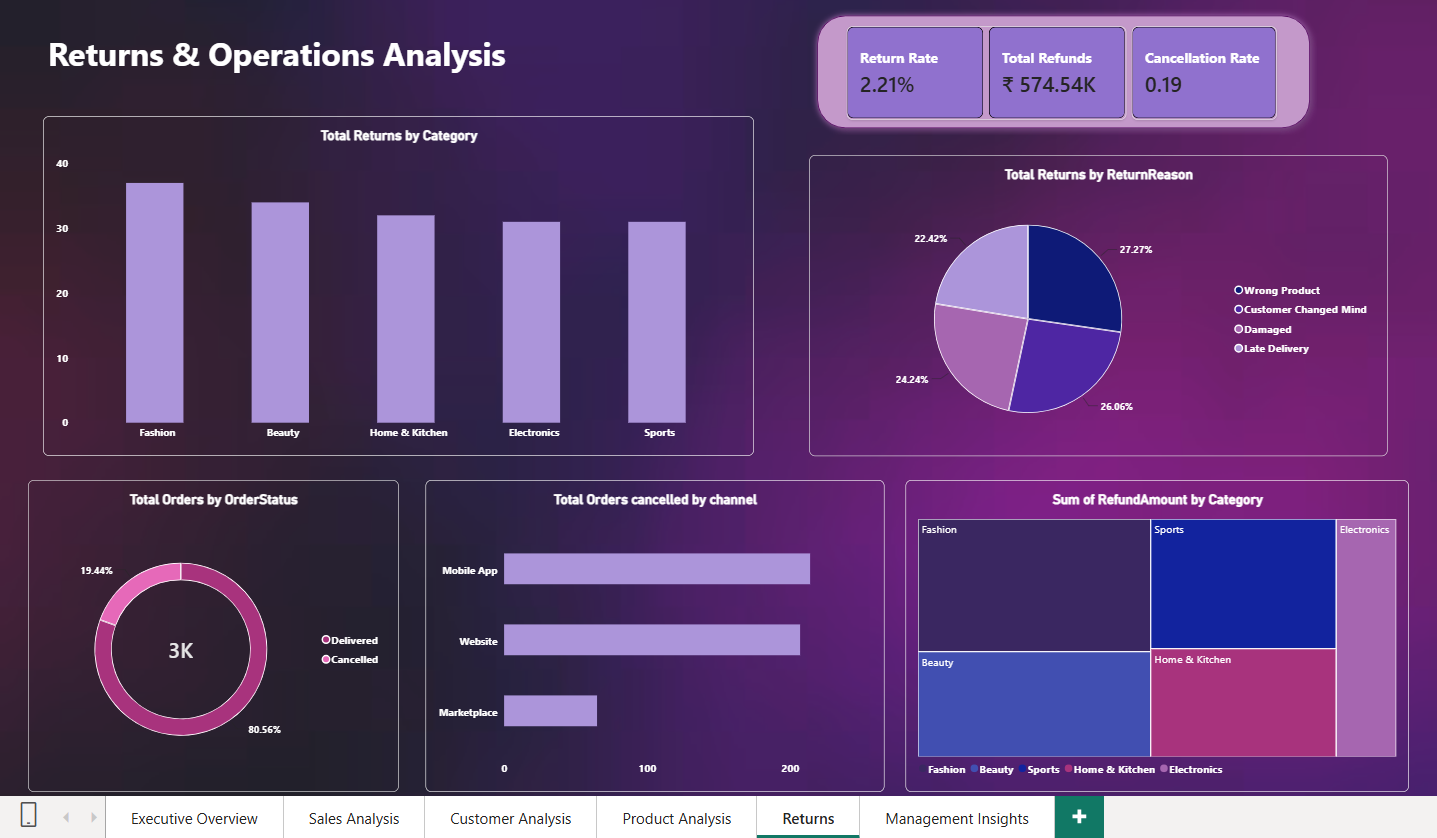

The dashboard page shown, as its layout file describes it:
{"tool":"powerbi","page":{"name":"Returns","canvas":[1920,1080],"ordinal":4},"visuals":[{"type":"shape","box":[1084,10.9,675,168.3],"z":0,"group":"g1"},{"type":"pieChart","fields":{"Category":["Returns.ReturnReason"],"Y":["Customers.Total Returns"]},"box":[1082.2,206.3,770.9,401.7],"z":0},{"type":"cardVisual","fields":{"Data":["Customers.Return Rate","Customers.Total Refunds"]},"box":[1132.8,34.6,372.8,124.9],"z":1000,"group":"g1"},{"type":"columnChart","fields":{"Category":["Products.Category"],"Y":["Customers.Total Returns"]},"box":[59.7,155.6,948.3,452.4],"z":1000},{"type":"cardVisual","fields":{"Data":["Customers.Cancellation Rate"]},"box":[1512.8,34.6,193.6,124.9],"z":2000,"group":"g1"},{"type":"treemap","fields":{"Group":["Products.Category"],"Values":["Sum(Returns.RefundAmount)"]},"box":[1210.7,640.6,671.4,416.2],"z":2000},{"type":"clusteredBarChart","title":"Total Orders cancelled by channel","fields":{"Category":["Orders.Channel"],"Y":["Customers.Total Orders"]},"box":[570,640.6,611.7,416.2],"z":3000},{"type":"donutChart","fields":{"Category":["Orders.OrderStatus"],"Y":["Customers.Total Orders"]},"box":[39.8,640.6,494,416.2],"z":4000},{"type":"group","id":"g1","title":"Group 1","box":[1084,10.9,675,168.3],"z":5000},{"type":"textbox","box":[67,41.6,796.3,85.1],"z":6000}]}

Visuals, with their boxes on the page's 1920x1080 design canvas (x1, y1, x2, y2). These are canvas units, not pixel positions in the 1437x838 screenshot, which may show the page scaled, cropped or inside an application window:
shape: (1084, 11, 1759, 179)
pieChart - Returns.ReturnReason x Customers.Total Returns: (1082, 206, 1853, 608)
cardVisual - Customers.Return Rate x Customers.Total Refunds: (1133, 35, 1506, 160)
columnChart - Products.Category x Customers.Total Returns: (60, 156, 1008, 608)
cardVisual - Customers.Cancellation Rate: (1513, 35, 1706, 160)
treemap - Products.Category x Sum(Returns.RefundAmount): (1211, 641, 1882, 1057)
"Total Orders cancelled by channel" clusteredBarChart: (570, 641, 1182, 1057)
donutChart - Orders.OrderStatus x Customers.Total Orders: (40, 641, 534, 1057)
"Group 1" group: (1084, 11, 1759, 179)
textbox: (67, 42, 863, 127)
